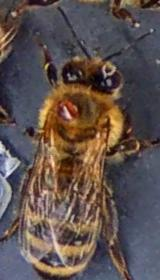varroa_mite: (49, 88, 84, 130)
